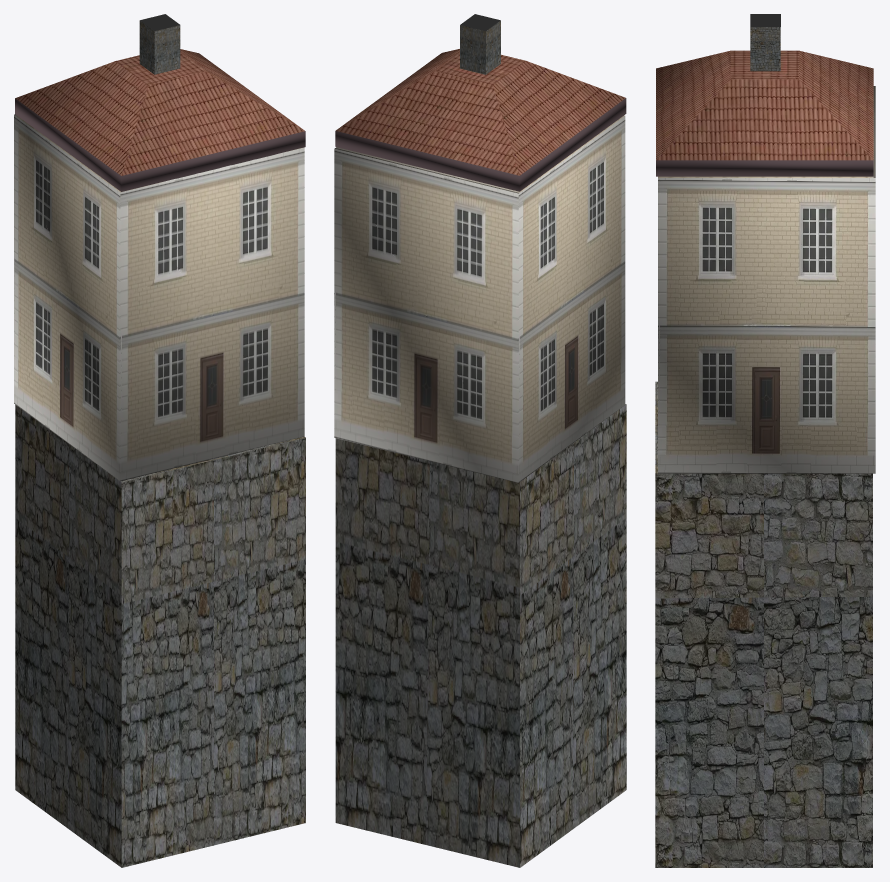
The model's file is gardener.glb.
3 renders of one model, left to right at view 1: azimuth 30°, elevation 25°; view 2: azimuth 150°, elevation 25°; view 3: azimuth 270°, elevation 25°, orthographic. The views are drawn at different scales.
Visible parts, largest first — view 1: Cube.002, Cube, Cube.001; view 2: Cube.002, Cube, Cube.001; view 3: Cube.002, Cube, Cube.001.
Part boxes in pixels (<box>): Cube.002: <box>15,21,305,867</box>; Cube: <box>14,114,304,481</box>; Cube.001: <box>15,49,305,191</box>; Cube.002: <box>335,20,626,867</box>; Cube: <box>334,115,625,482</box>; Cube.001: <box>335,49,626,191</box>; Cube.002: <box>655,27,872,867</box>; Cube: <box>658,86,875,473</box>; Cube.001: <box>656,50,873,176</box>.
Bounding box in the file's own units: 1 × 4.07 × 1.01.
Materials: 6 (4 with a texture image).
